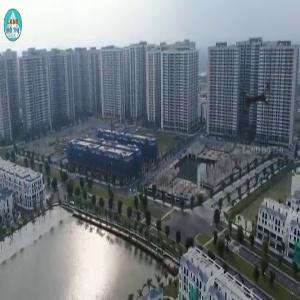drone: (214, 54, 300, 141)
